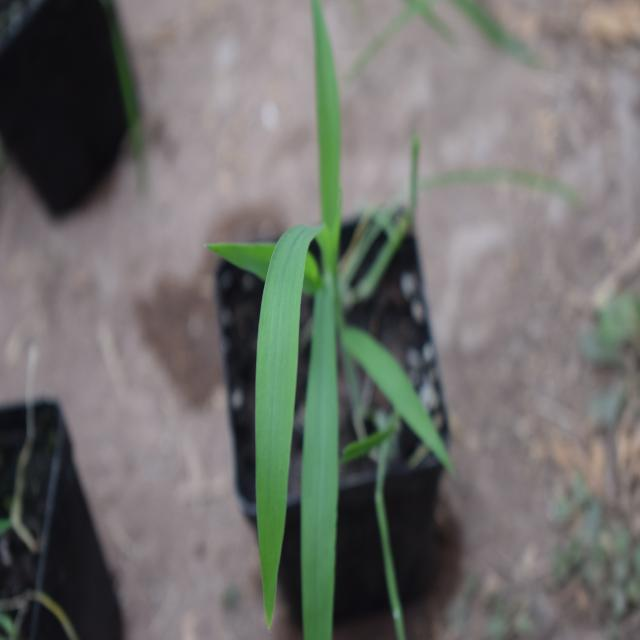crabgrass: (230, 22, 398, 603)
